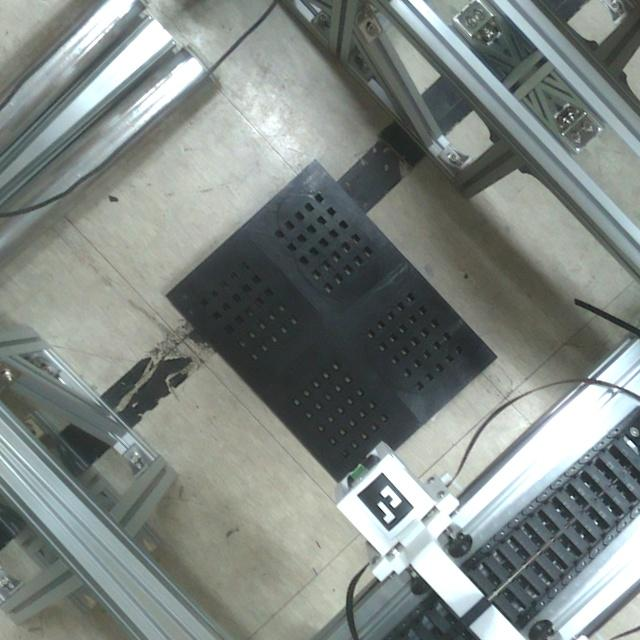pallet: (160, 152, 507, 502)
